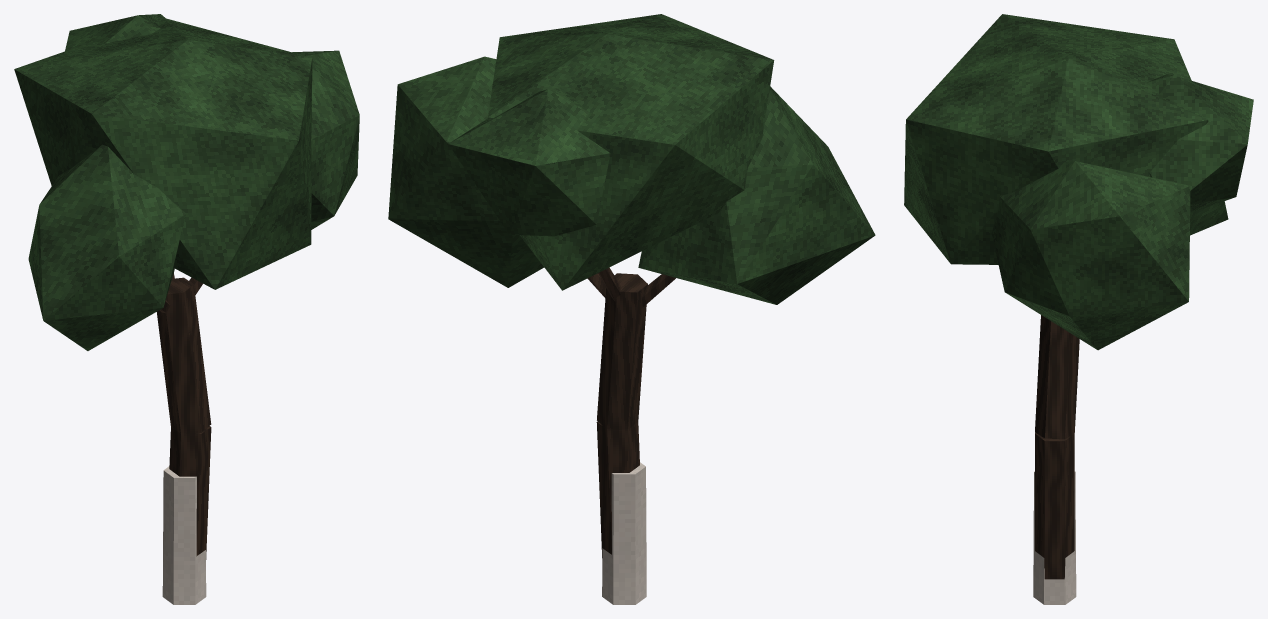
Rendered from tree_lowpoly.glb.
3 renders of one model, left to right at view 1: azimuth 30°, elevation 25°; view 2: azimuth 150°, elevation 25°; view 3: azimuth 270°, elevation 25°, orthographic. The views are drawn at different scales.
Parts seen in each view (by area): view 1: tree_lowpoly; view 2: tree_lowpoly; view 3: tree_lowpoly.
Boxes of the visible parts, <box> form: tree_lowpoly: <box>14,14,359,604</box>; tree_lowpoly: <box>388,14,875,604</box>; tree_lowpoly: <box>904,14,1253,604</box>.
Size of what is drawn, in the model's own units: 2.83 by 3.91 by 2.28.
3 materials, 3 textured.
